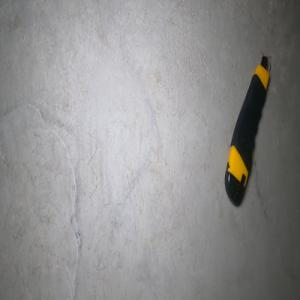Cutter: (223, 55, 270, 207)
